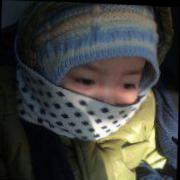WRONG: (48, 48, 143, 144)
